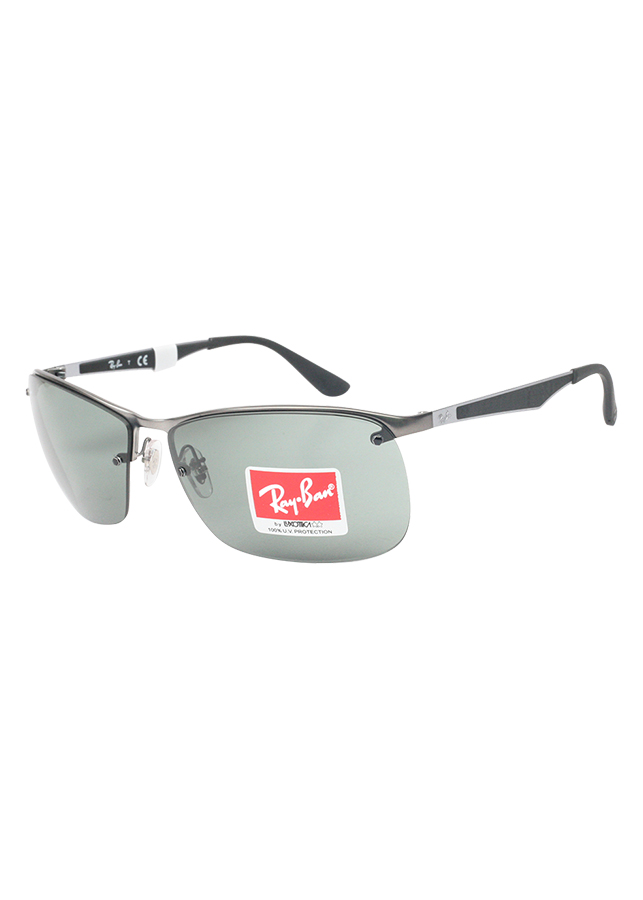Rayban: (239, 457, 345, 528), (98, 351, 125, 378)
